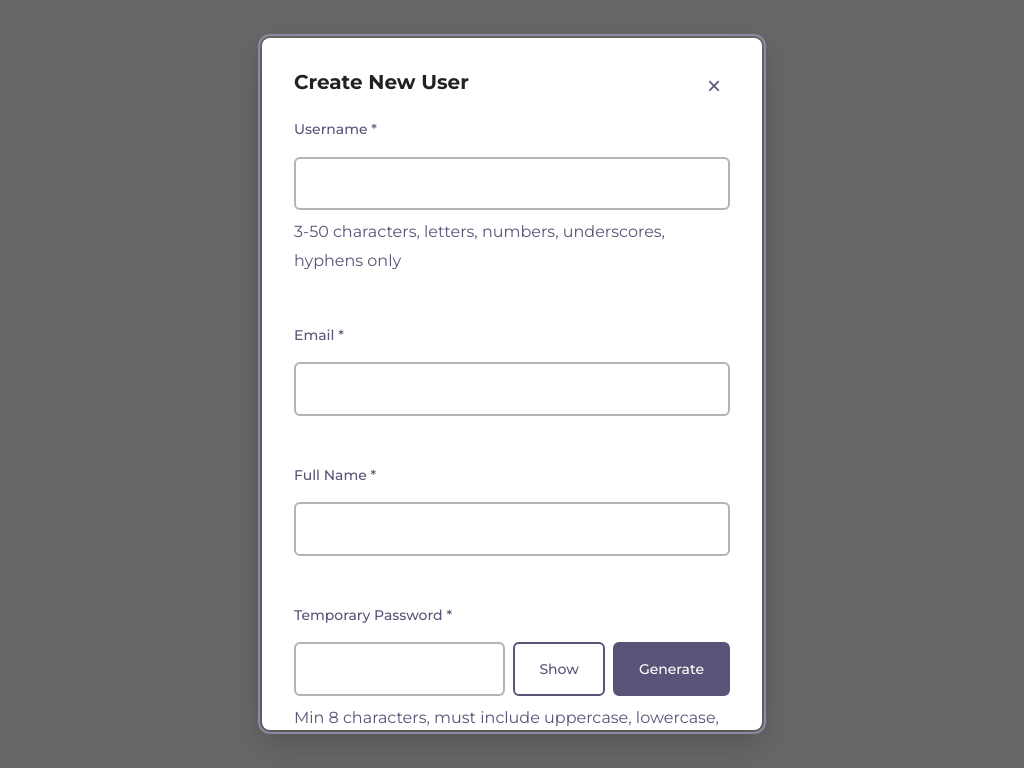
it: CreateUserDialog › Form Validation › validates password minimum length (8 characters)
Step 1. Type "testuser" into the field labelled "Username *" → (512, 184), box left=294, top=157, right=730, bottom=210
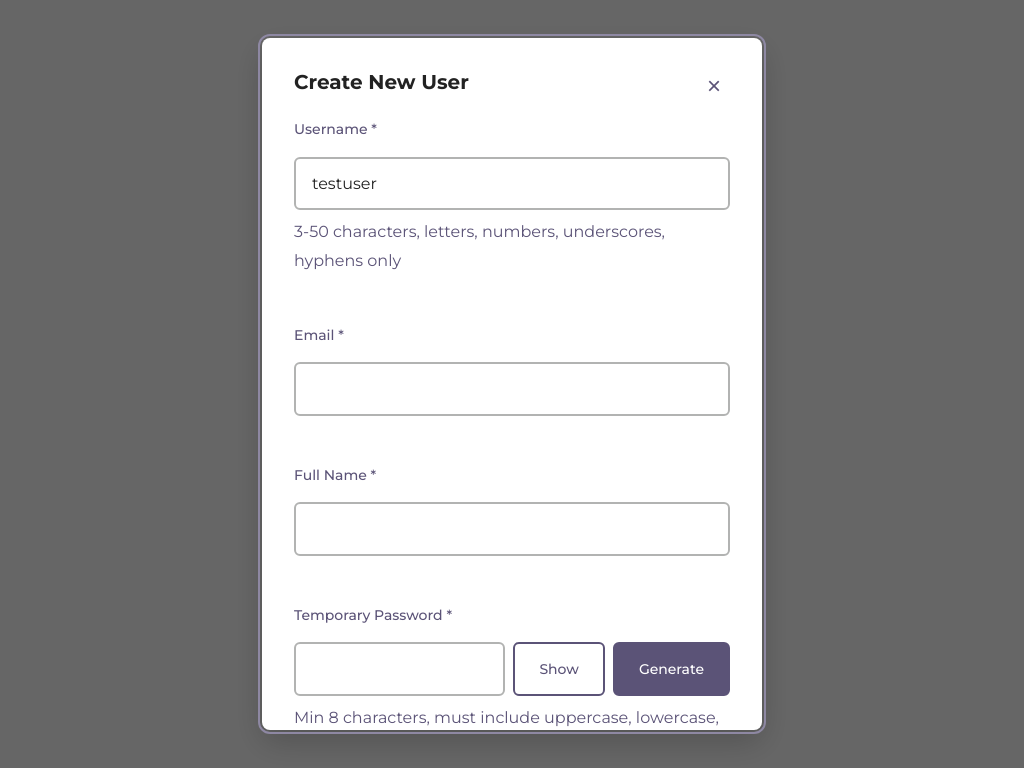
Step 2. Type "test@example.com" into the field labelled "Email *" → (512, 389), box left=294, top=362, right=730, bottom=416
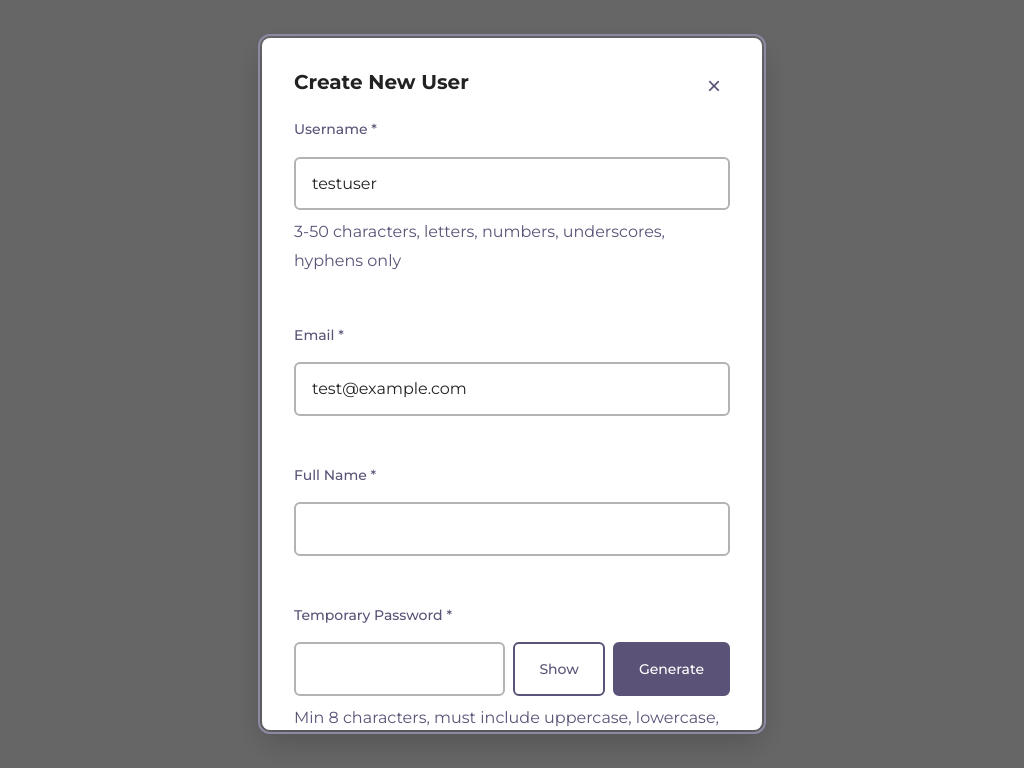
Step 3. Type "Test User" into the field labelled "Full Name *" → (512, 529), box left=294, top=502, right=730, bottom=556
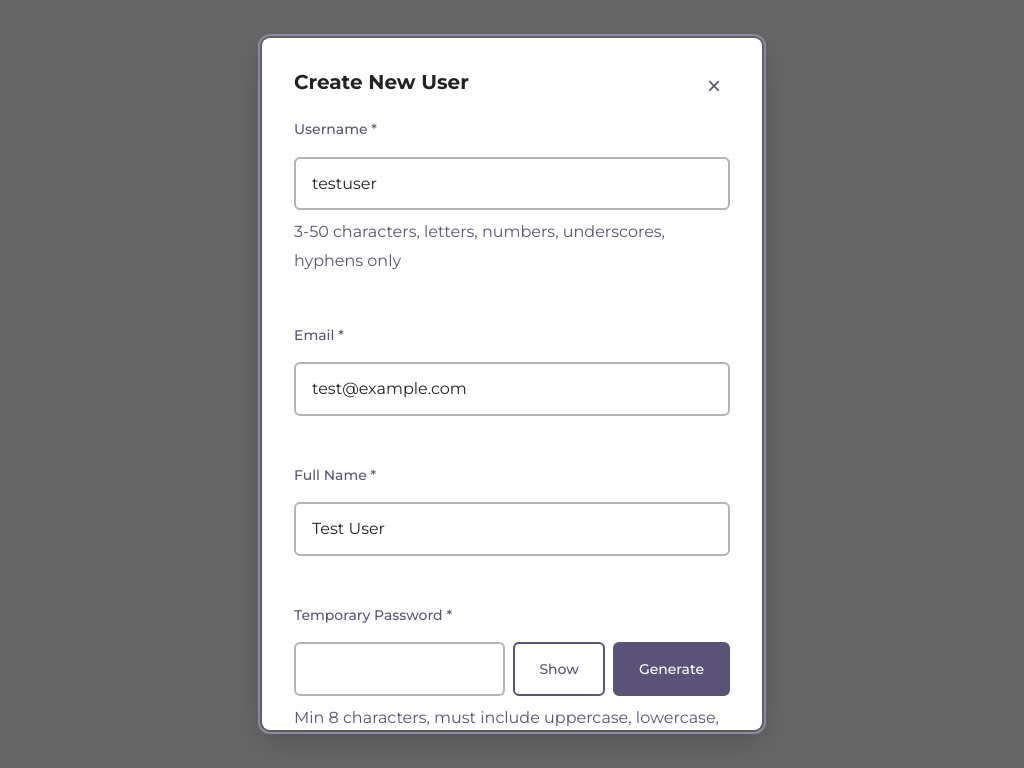
Step 4. Type "Short1" into the password field labelled "Temporary Password *" → (400, 669), box left=294, top=642, right=505, bottom=696
(page scrolled)
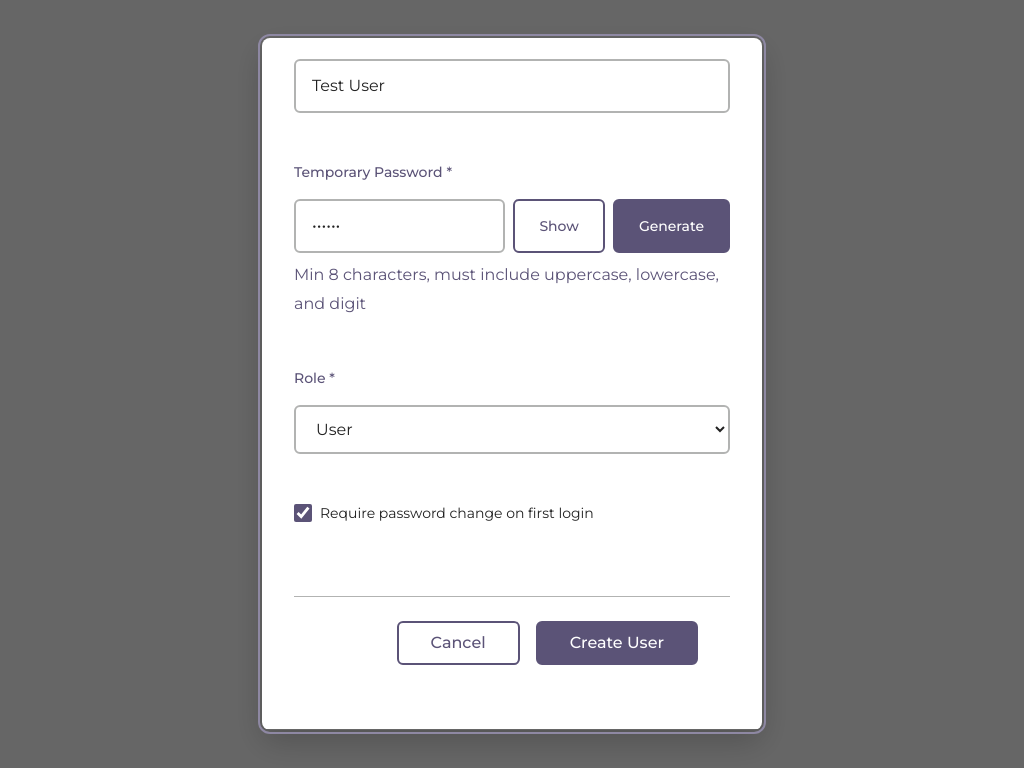
Step 5. Click the button "Create User" → (617, 643), box left=536, top=621, right=698, bottom=665
(page scrolled)
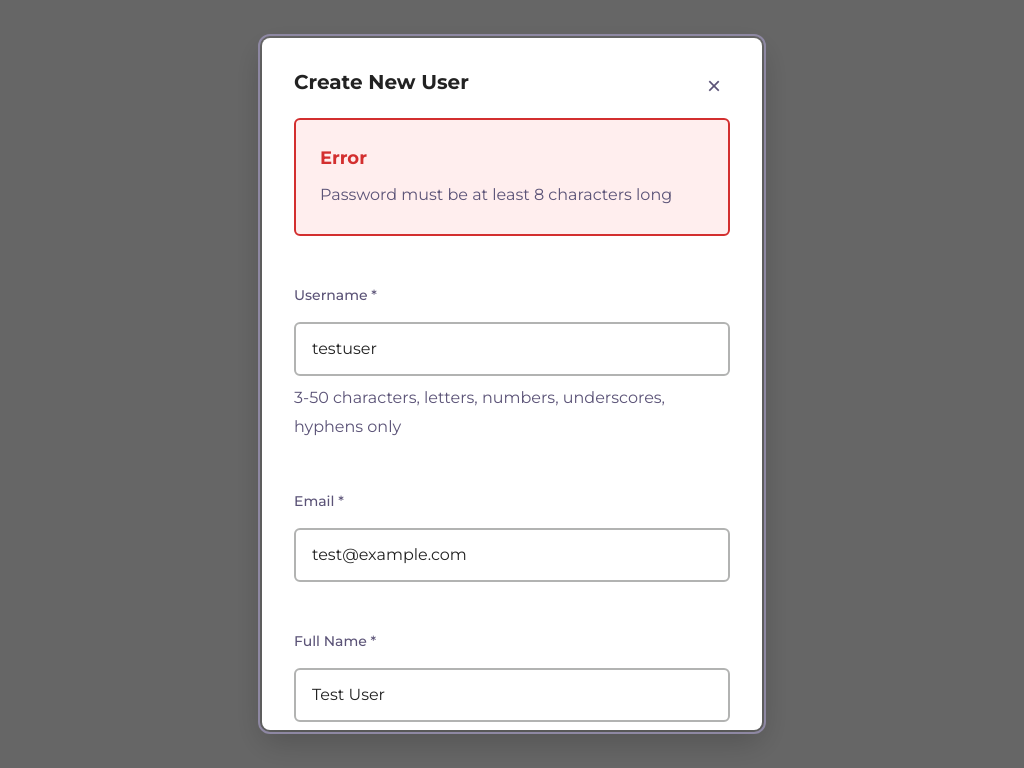
Now the text "Password must be at least 8 characters long" is shown, box left=320, top=181, right=672, bottom=210
